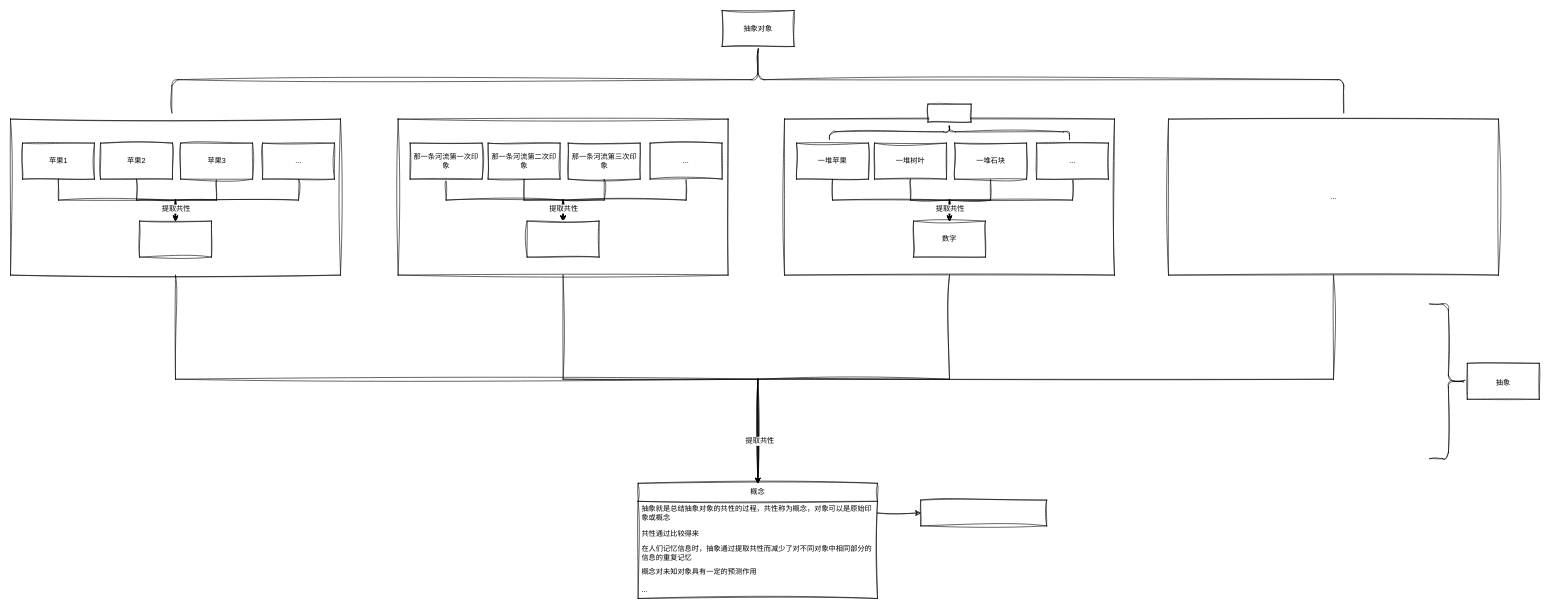
Some shapes in this 1550 by 609 pixel diagram are drawn without their labels. The shapes that lost their labels are listed below. From the top down, each one's centre as x and y in pixels, then its label:
At pixel 949 113: "原始印象".
At pixel 175 238: "苹果".
At pixel 562 238: "那一条河流".
At pixel 983 513: "规律的有限可达性质：规律总是由原始印象经过有限步数的抽象或类比得来".
